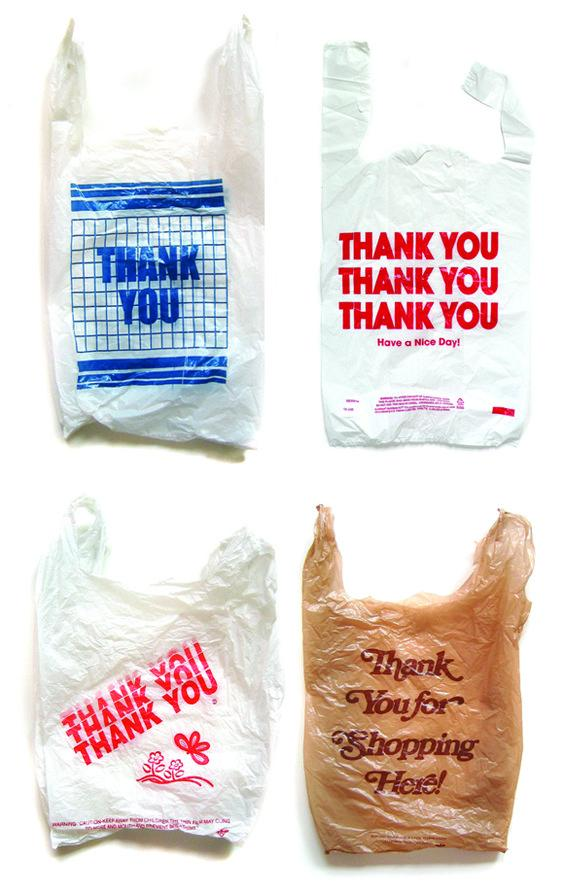LDPE: (0, 497, 281, 895), (43, 18, 270, 441), (321, 41, 534, 450), (303, 504, 533, 860)
